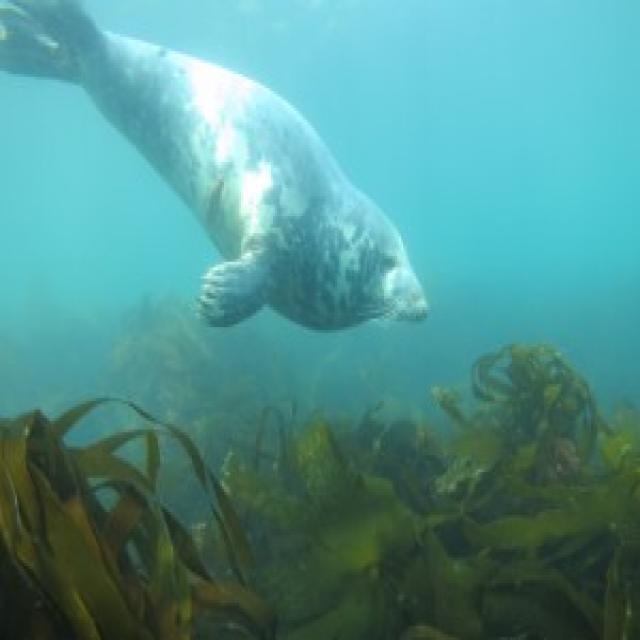Seal: (25, 12, 442, 348)
